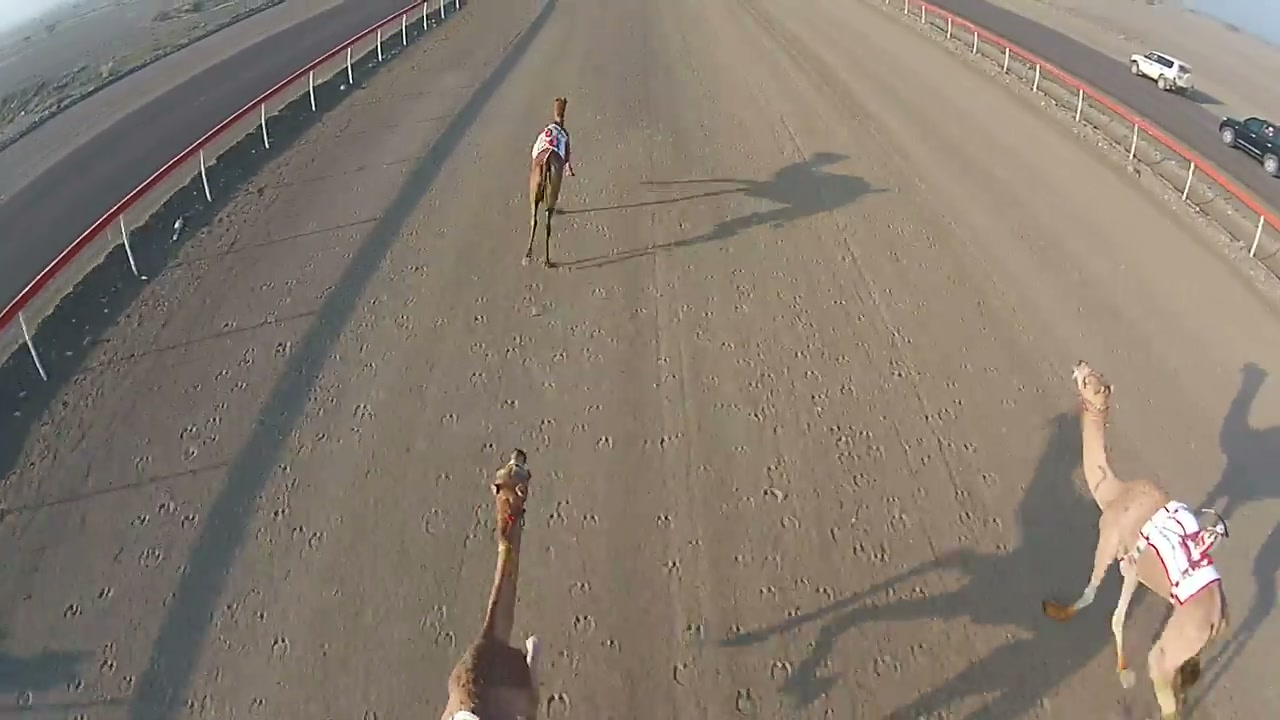animal_foot_print: (382, 253, 628, 689)
